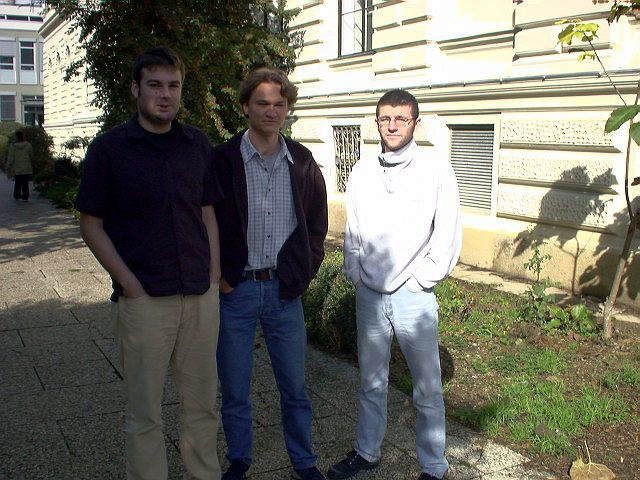person: (214, 67, 328, 475), (345, 91, 462, 475)
